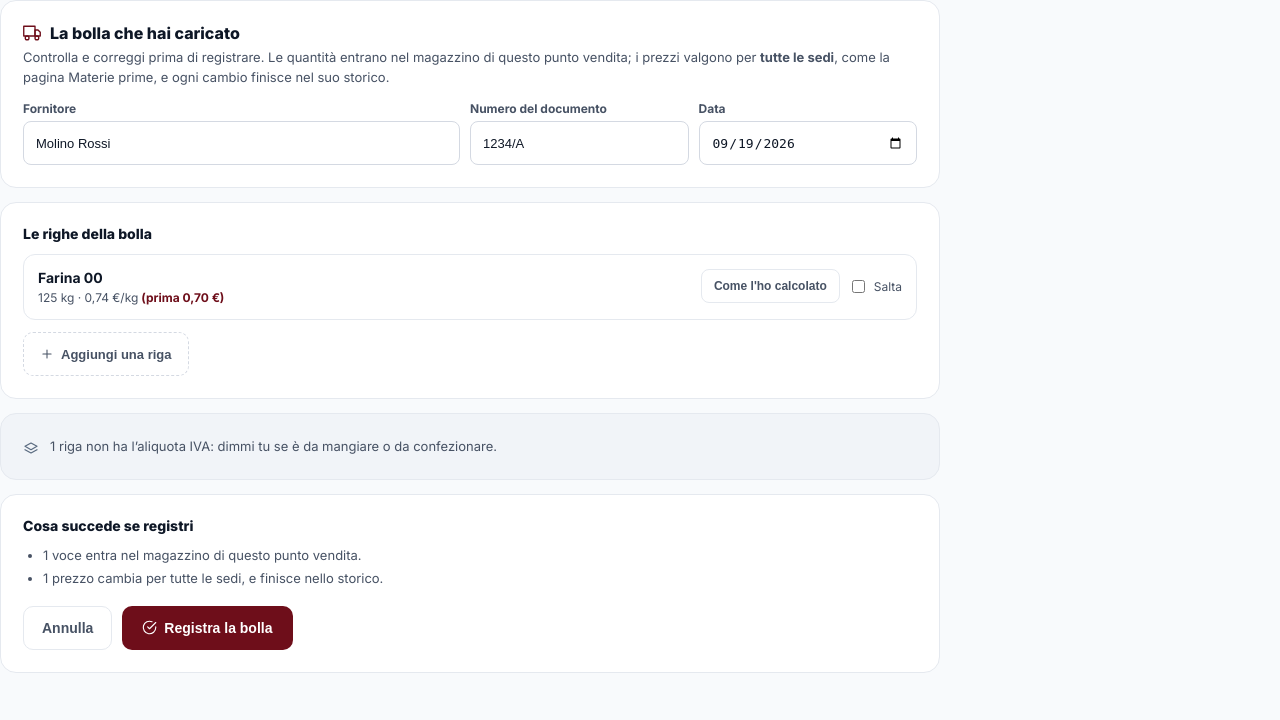
Test: Il menù delle unità contiene anche quello che c'è scritto sulla bolla › «SACCHI» è nel menù e risulta scelta, invece di lasciarlo vuoto
Click the button "Come l'ho calcolato" at x=770, y=286, box [701,269,840,303]
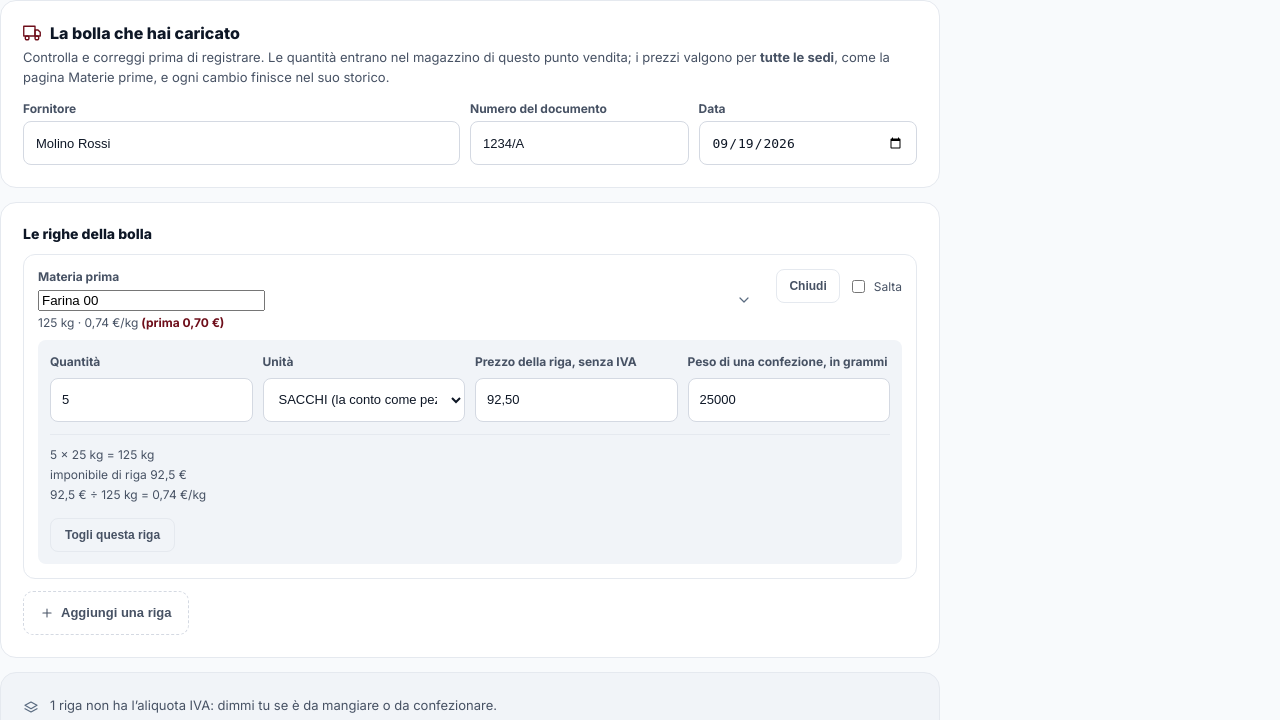
Result: the dropdown labelled "Unità" shows "SACCHI (la conto come pezzi o confezioni)" at [262,378,465,422]
